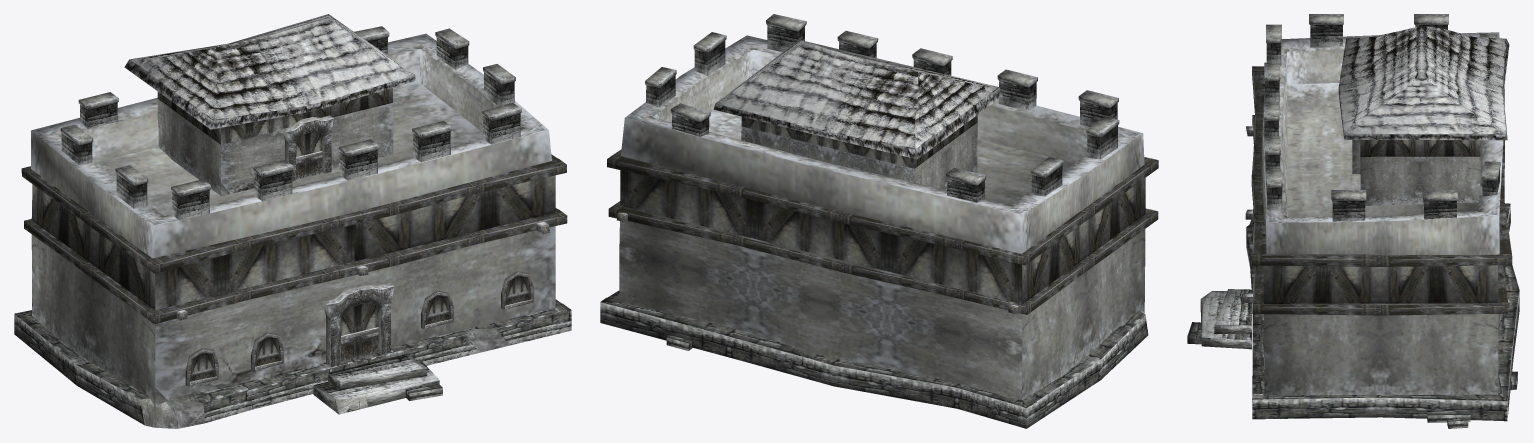
The model's file is S_Build_Snowland025.FBX.
3 renders of one model, left to right at view 1: azimuth 30°, elevation 25°; view 2: azimuth 150°, elevation 25°; view 3: azimuth 270°, elevation 25°, orthographic. The views are drawn at different scales.
Parts seen in each view (by area): view 1: S_Build_Snowland025; view 2: S_Build_Snowland025; view 3: S_Build_Snowland025.
Part boxes in pixels (x1=…): S_Build_Snowland025: x1=14, y1=14, x2=571, y2=428; S_Build_Snowland025: x1=600, y1=14, x2=1158, y2=428; S_Build_Snowland025: x1=1187, y1=14, x2=1519, y2=428.
Size of the model in its own units: 1312 by 891 by 807.
